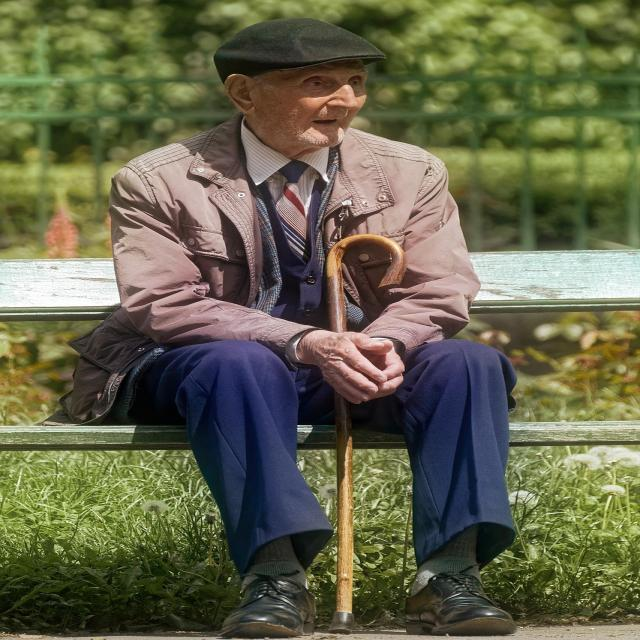idoso sentado: (52, 17, 523, 638)
